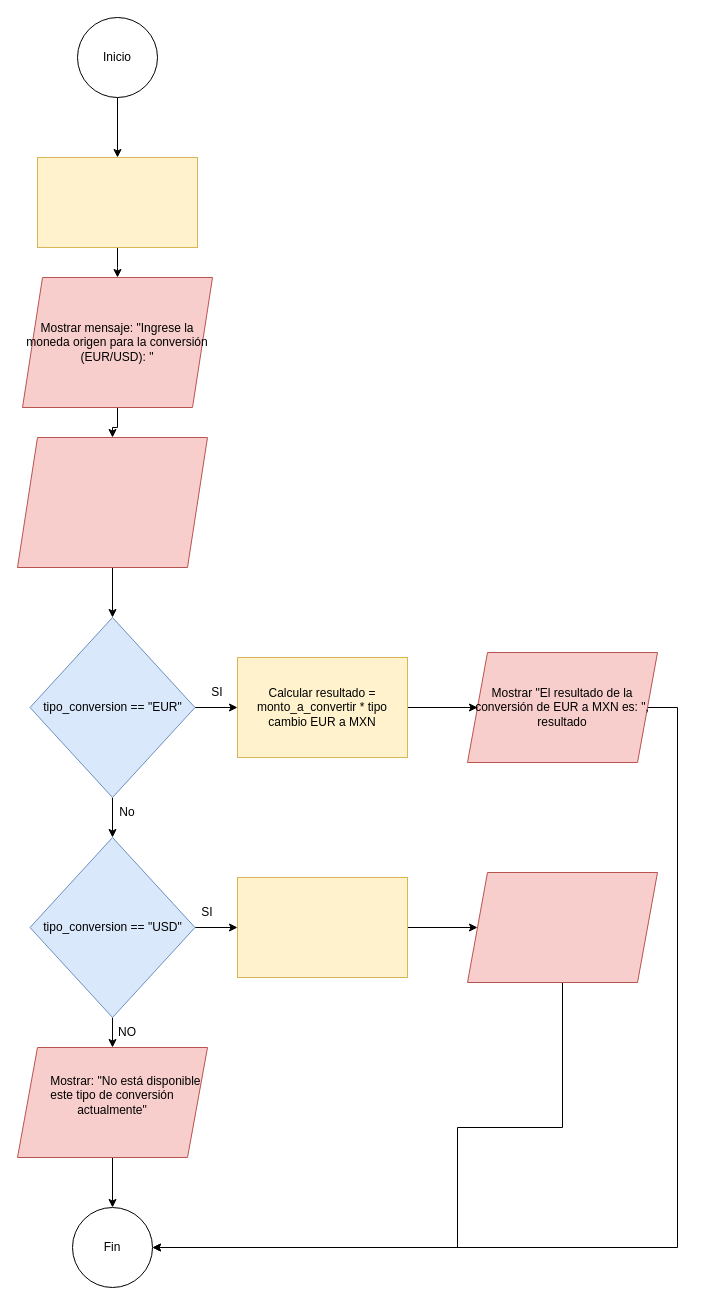
Image size: 703x1305. Some labels were removed from this diagram. The shapes that lost their labels are listed below. From the top down, each one's box as (x1, y1, x2, y2) in pixels, then its label:
(36, 156, 198, 248): Definir tipo cambio EUR a MXN = 23.70 Definir tipo cambio USD a MXN = 20.75
(16, 436, 208, 568): Mostrar mensaje: "Ingrese el monto a convertir: "
(236, 876, 408, 978): Calcular resultado = monto_a_convertir * tipo cambio USD a MXN
(466, 872, 658, 982): Mostrar "El resultado de la conversión de USD a MXN es: ", resultado
